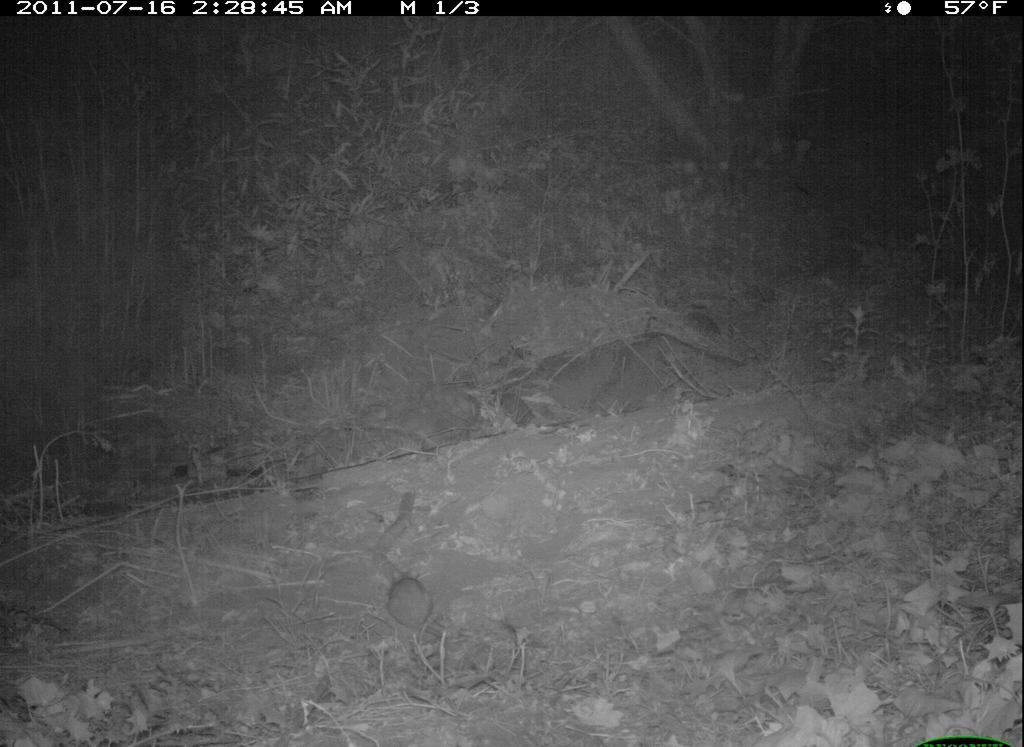rodent: (382, 563, 453, 648)
